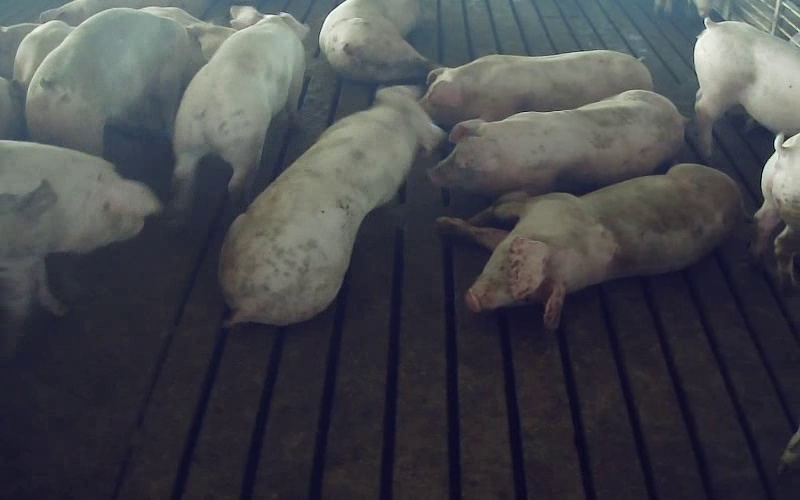pig: (219, 86, 443, 325), (437, 164, 741, 329), (174, 7, 308, 209), (430, 90, 683, 194), (26, 8, 204, 155), (420, 50, 652, 127), (694, 18, 799, 158), (319, 0, 431, 81)
